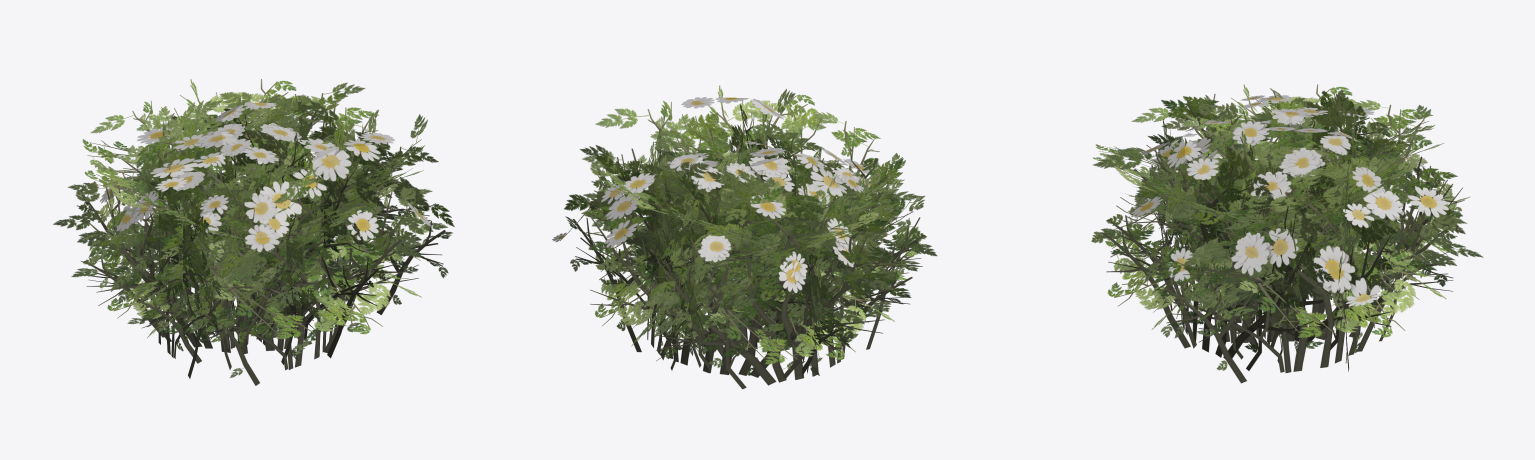
The model's file is Bush7_Flower.gltf.
3 renders of one model, left to right at view 1: azimuth 30°, elevation 25°; view 2: azimuth 150°, elevation 25°; view 3: azimuth 270°, elevation 25°, orthographic. The views are drawn at different scales.
Parts seen in each view (by area): view 1: Object_150, Object_151, Object_149, Object_152, Object_153, Object_148; view 2: Object_151, Object_149, Object_152, Object_150, Object_153, Object_148; view 3: Object_151, Object_150, Object_149, Object_148, Object_152, Object_153.
Part boxes in pixels (left/top/right/bottom): Object_150: left=53, top=110, right=447, bottom=385; Object_151: left=82, top=79, right=427, bottom=369; Object_149: left=81, top=82, right=454, bottom=328; Object_152: left=134, top=119, right=393, bottom=378; Object_153: left=99, top=102, right=394, bottom=252; Object_148: left=137, top=111, right=431, bottom=240; Object_151: left=581, top=85, right=921, bottom=367; Object_149: left=564, top=106, right=904, bottom=378; Object_152: left=584, top=151, right=925, bottom=389; Object_150: left=568, top=104, right=937, bottom=375; Object_153: left=621, top=97, right=877, bottom=293; Object_148: left=552, top=141, right=863, bottom=247; Object_151: left=1091, top=84, right=1457, bottom=349; Object_150: left=1095, top=101, right=1483, bottom=370; Object_149: left=1153, top=90, right=1470, bottom=383; Object_148: left=1131, top=95, right=1448, bottom=306; Object_152: left=1125, top=88, right=1465, bottom=362; Object_153: left=1141, top=120, right=1424, bottom=194.
Size of the model in its own units: 42.5 by 28.43 by 44.45.
Materials: 6 (6 with a texture image).
